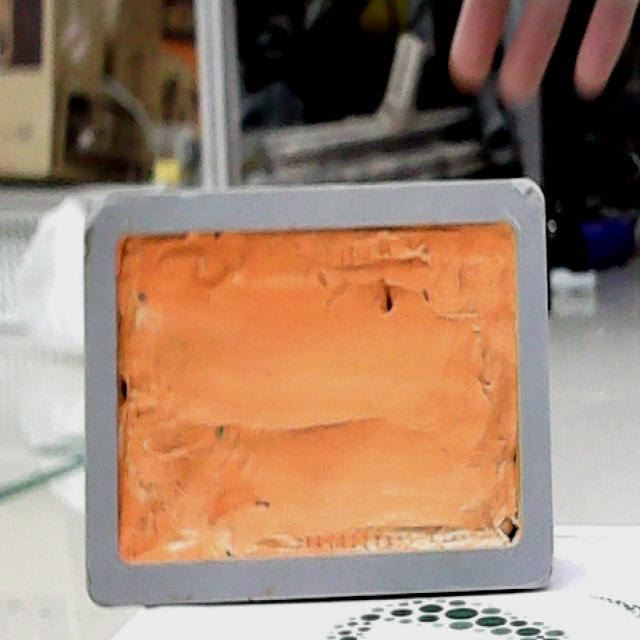block: (78, 173, 561, 612)
